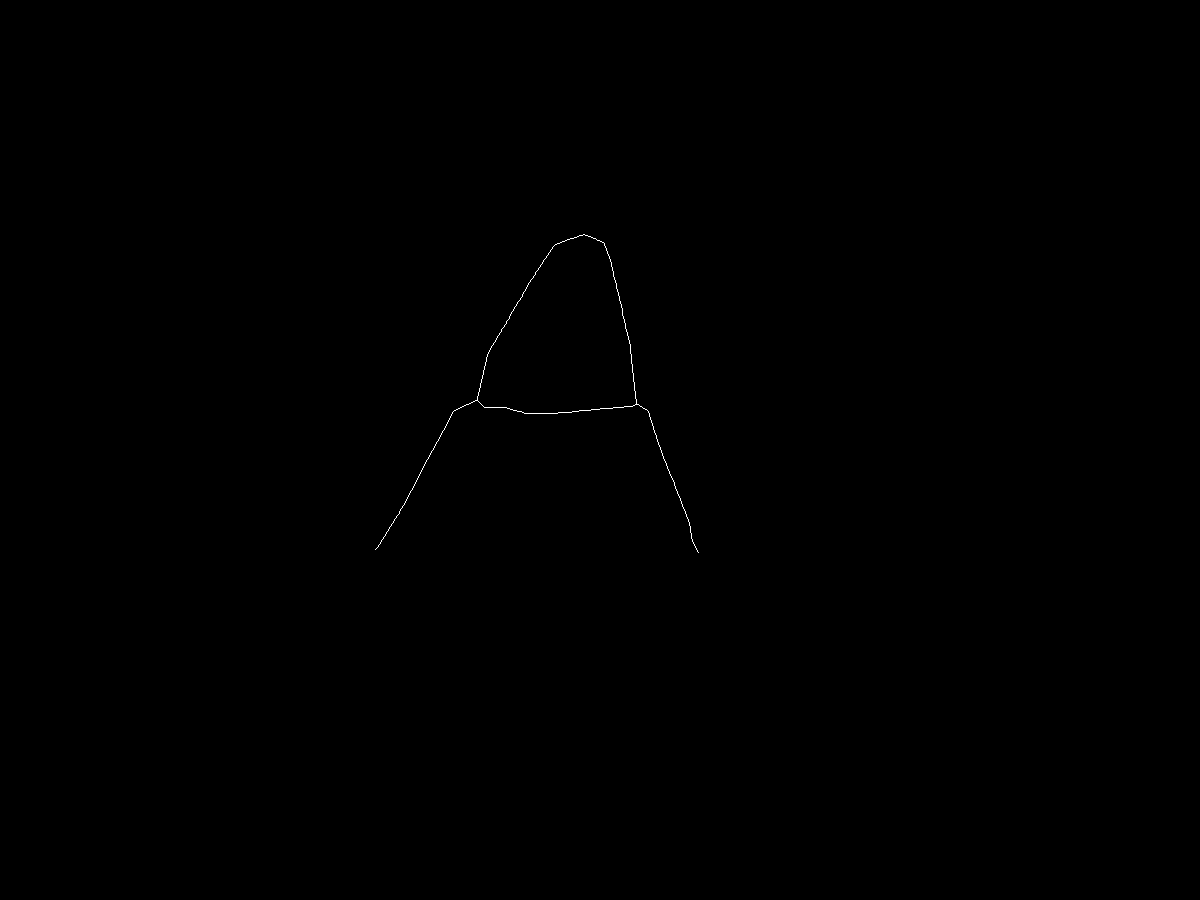dian1: (575, 228, 592, 245)
dian2: (450, 402, 468, 420)
dian3: (367, 545, 386, 564)
dian4: (642, 402, 660, 420)
dian5: (683, 543, 705, 565)
